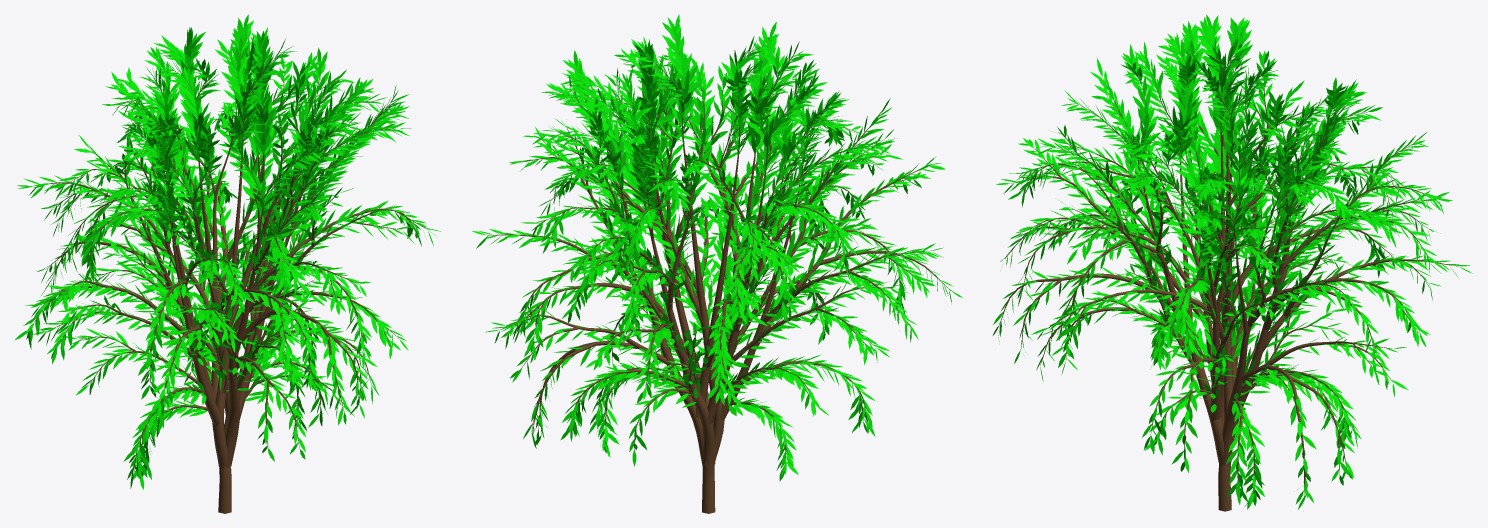
The model's file is Tree_2.fbx.
3 renders of one model, left to right at view 1: azimuth 30°, elevation 25°; view 2: azimuth 150°, elevation 25°; view 3: azimuth 270°, elevation 25°, orthographic.
Parts seen in each view (by area): view 1: Tree 2; view 2: Tree 2; view 3: Tree 2.
Part boxes in pixels (<box>): Tree 2: <box>15,14,440,513</box>; Tree 2: <box>472,14,962,513</box>; Tree 2: <box>992,14,1472,511</box>.
Size of the model in its own units: 587 by 659 by 608.
